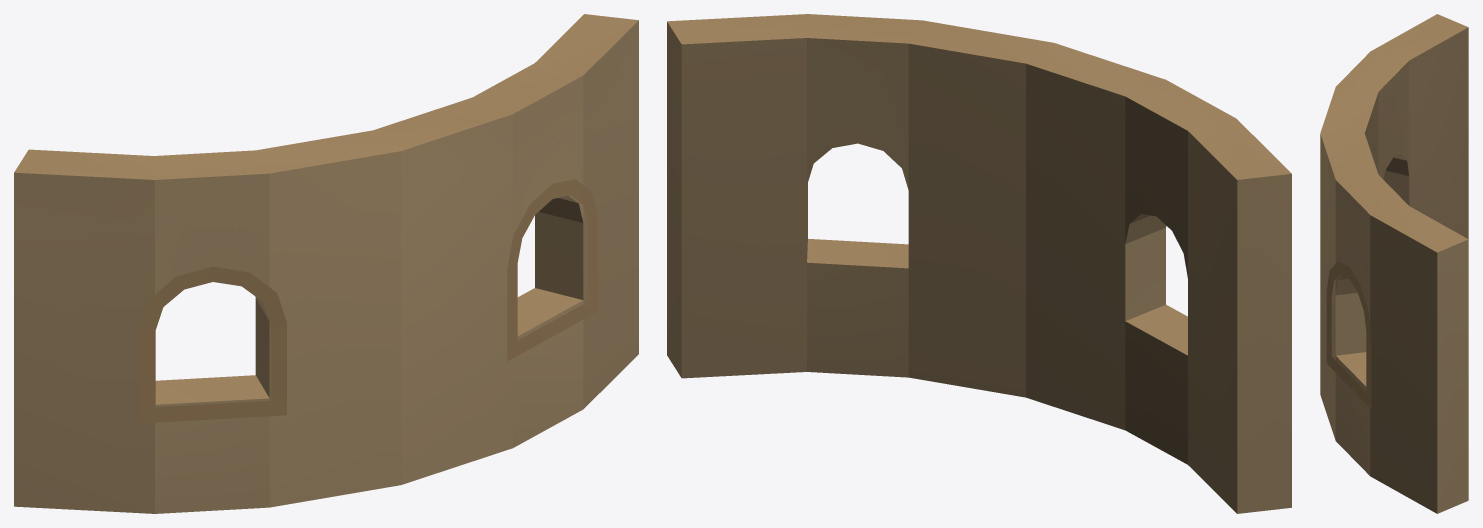
File: dome.drum_window.sandstone.glb
The picture shows the model from 3 angles, left to right: view 1: azimuth 30°, elevation 25°; view 2: azimuth 150°, elevation 25°; view 3: azimuth 270°, elevation 25°; orthographic projection. The views are drawn at different scales.
Visible parts, largest first — view 1: dome_drum_window_sandstone; view 2: dome_drum_window_sandstone; view 3: dome_drum_window_sandstone.
Part boxes in pixels (box(x1,y1,x2,y2)): dome_drum_window_sandstone: box(14, 14, 638, 513); dome_drum_window_sandstone: box(667, 14, 1291, 513); dome_drum_window_sandstone: box(1320, 14, 1468, 513).
Size of what is drawn, in the model's own units: 5.09 by 2.6 by 1.34.
